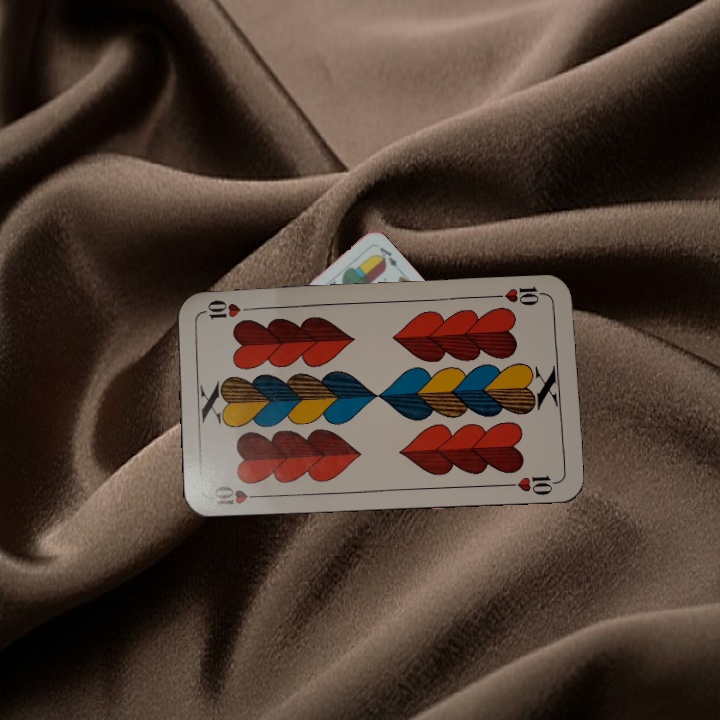H10: (210, 481, 268, 508), (490, 282, 550, 308)
